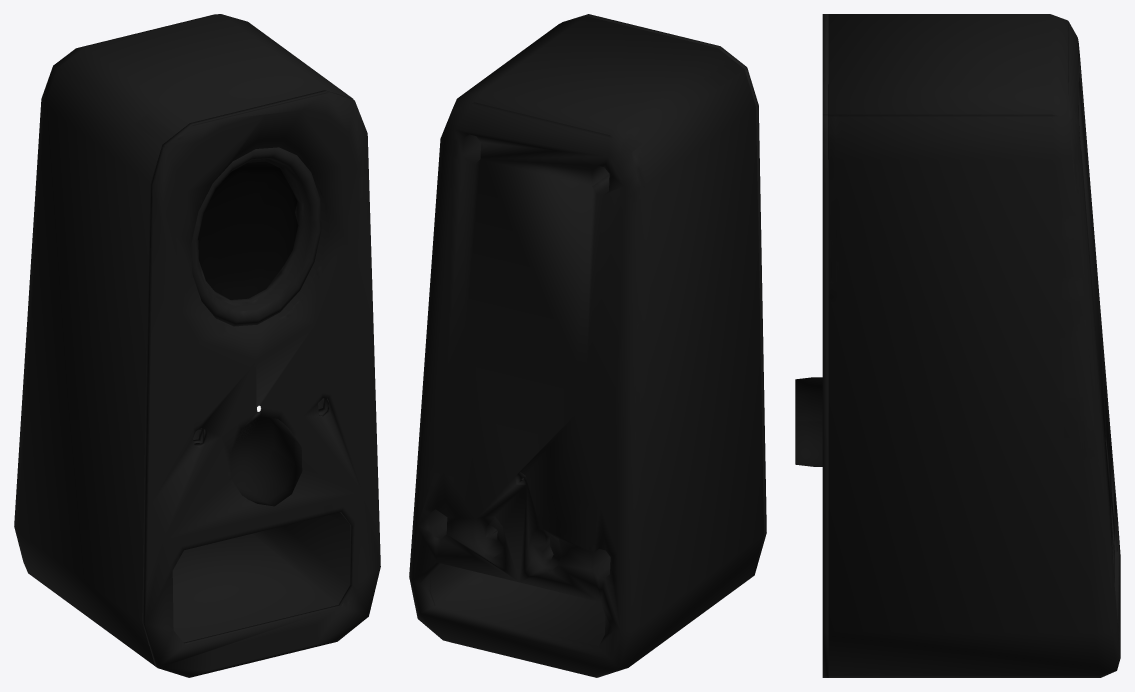
The model's file is spk-logitech-z407_lod2.glb.
3 renders of one model, left to right at view 1: azimuth 30°, elevation 25°; view 2: azimuth 150°, elevation 25°; view 3: azimuth 270°, elevation 25°, orthographic. The views are drawn at different scales.
Visible parts, largest first — view 1: body; view 2: body; view 3: body.
Part boxes in pixels (x1,y1,x2,y2): body: [14, 14, 380, 677]; body: [409, 14, 766, 677]; body: [795, 14, 1120, 677].
Bounding box in the file's own units: 0.08 × 0.179 × 0.0898.
5 materials, 3 textured.
